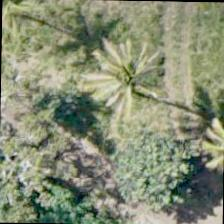Kelapa_Sawit: (76, 33, 168, 125)
